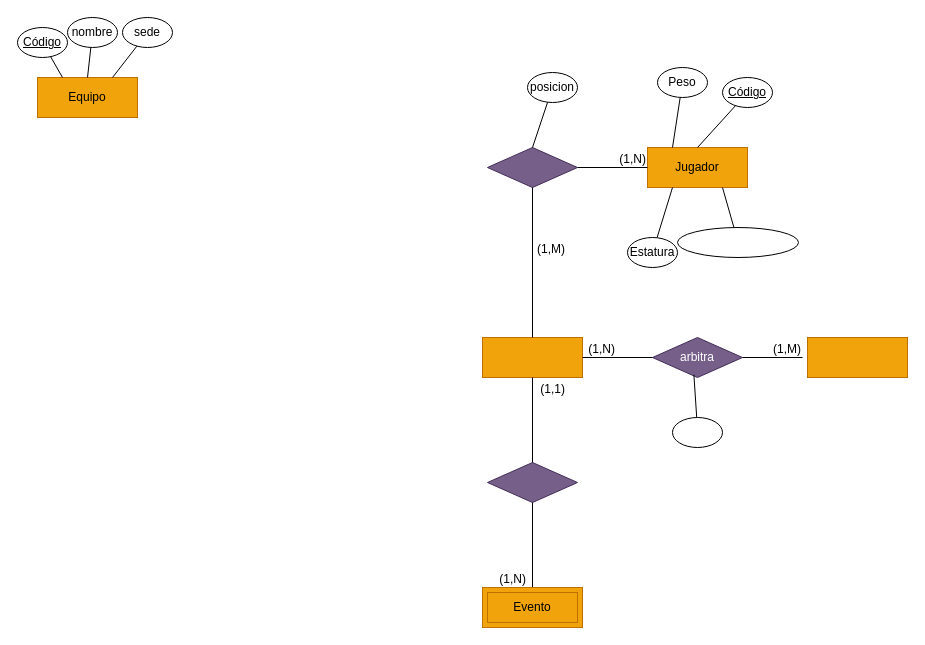
The diagram is 925 pixels wide and 645 high, and some of its shapes have lost their labels. Each missing label, with the centre of its shape:
"Arbitro" goes at (x=857, y=357).
"funcion" goes at (x=697, y=432).
"juega" goes at (x=532, y=167).
"nombre_completo" goes at (x=737, y=242).
"Partido" goes at (x=532, y=357).
"tiene" goes at (x=532, y=482).
